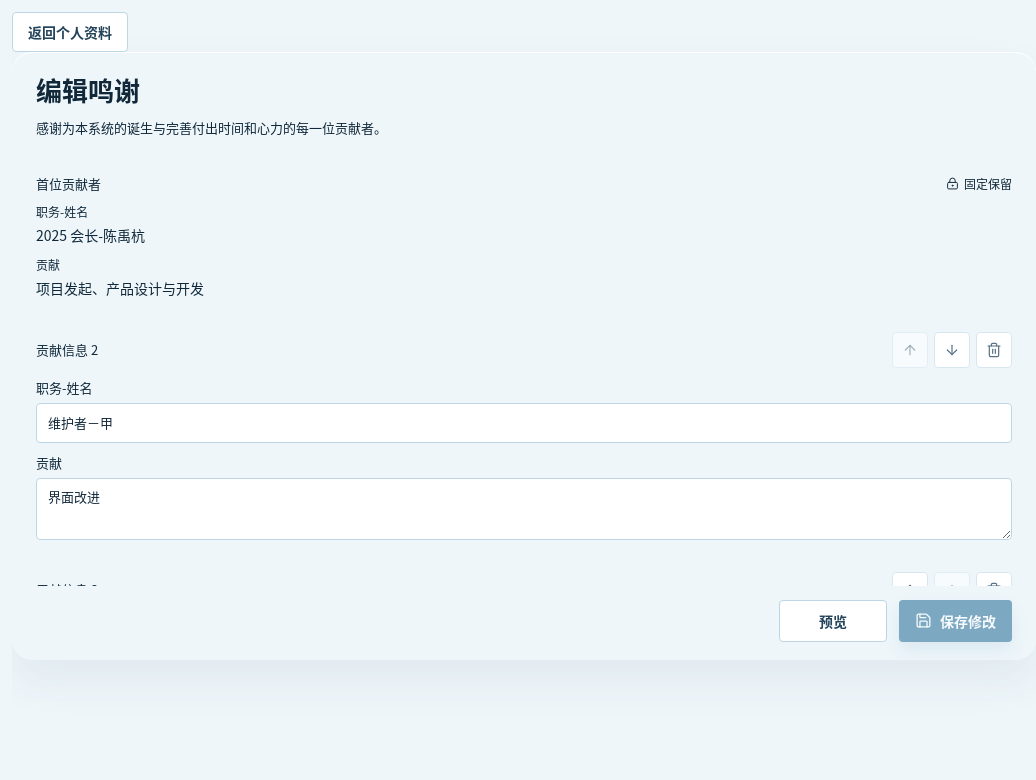
credits editor › preserves entered fields after failed or conflicting saves
Replace the text in the field labelled "职务-姓名" with "维护者－新姓名" at (524, 423), box [36,403,1012,443]
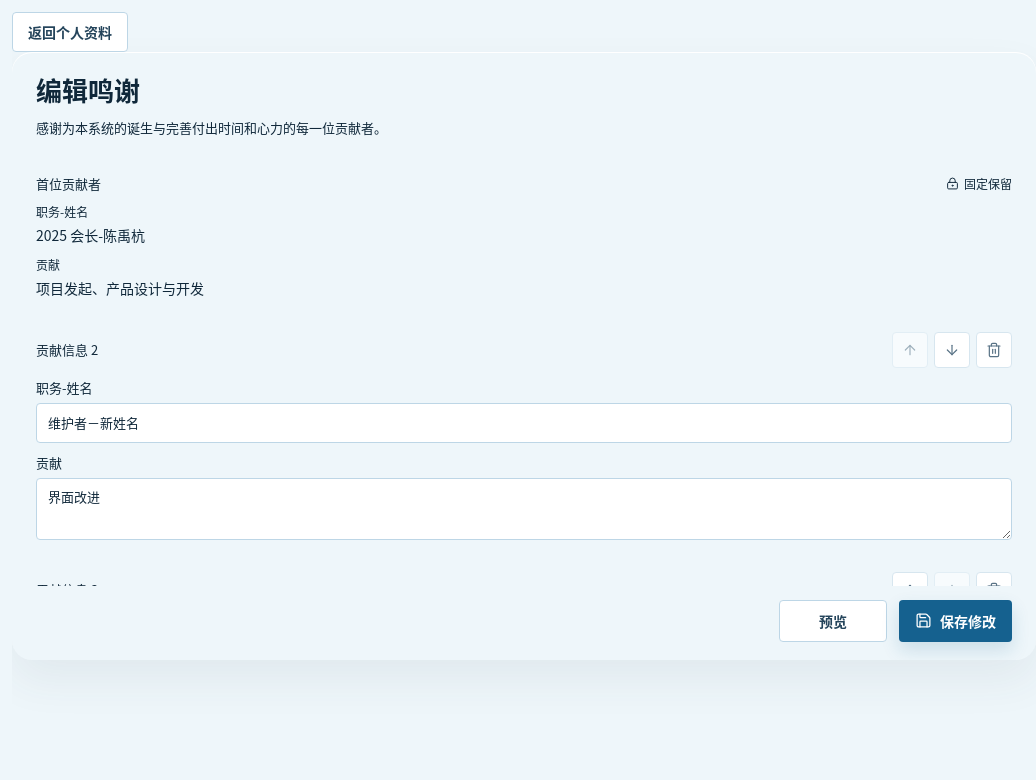
Submit the form
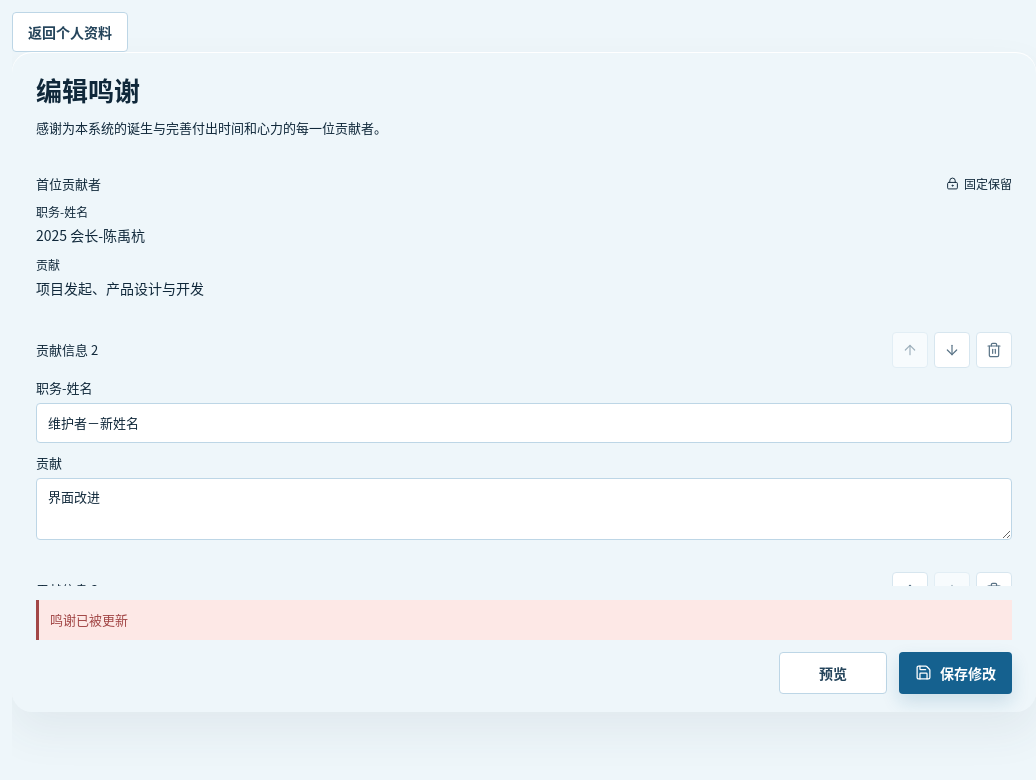
expect the message "鸣谢已被更新" is shown: met, box [36,600,1012,640]
